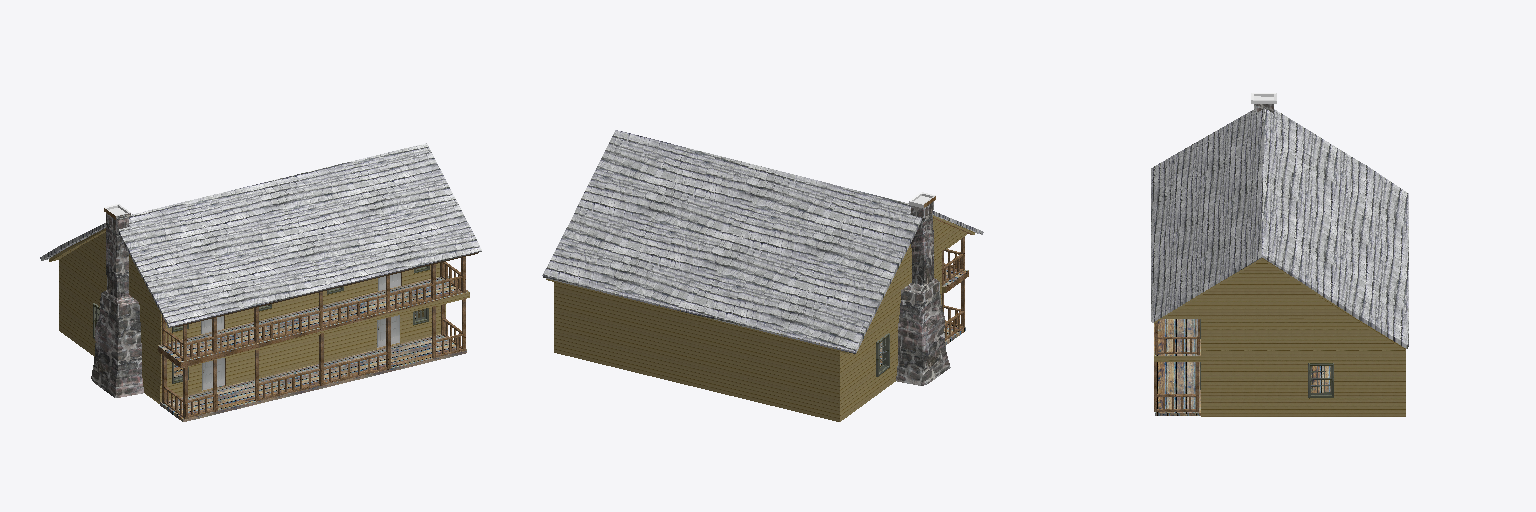
3 views of the same model, side by side, from view 1: azimuth 30°, elevation 25°; view 2: azimuth 150°, elevation 25°; view 3: azimuth 270°, elevation 25° (orthographic).
Parts seen in each view (by area): view 1: farmhouse; view 2: farmhouse; view 3: farmhouse.
Boxes of the visible parts, x1,y1,x2,y2 form: farmhouse: [40, 143, 481, 421]; farmhouse: [542, 130, 983, 421]; farmhouse: [1151, 93, 1408, 416].
Size of the model in its own units: 28.82 by 14.92 by 19.93.
11 materials, 7 textured.